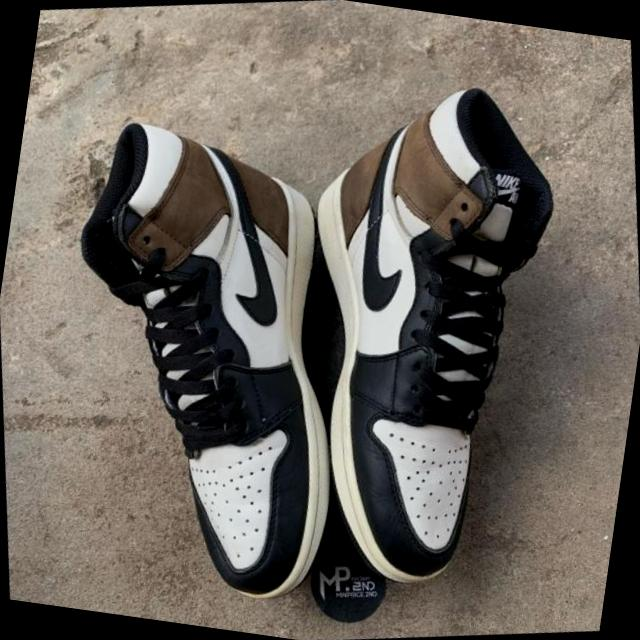nike_original_jordan: (244, 50, 640, 629), (3, 83, 393, 640)
